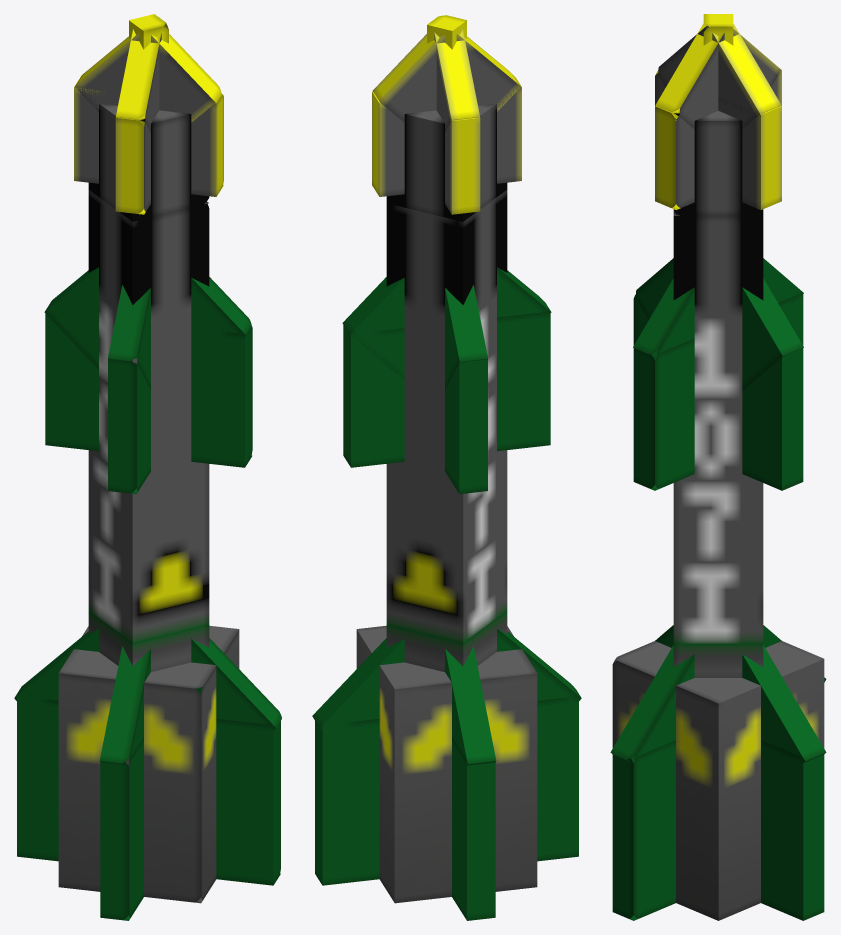
The model's file is missile_incendiary.obj.
3 renders of one model, left to right at view 1: azimuth 30°, elevation 25°; view 2: azimuth 150°, elevation 25°; view 3: azimuth 270°, elevation 25°, orthographic.
Parts seen in each view (by area): view 1: MAIN_MISSILE_MODULE, PROPULSOR_MODULE, WING_B_B_1, WING_T_B_2, WING_B_A_1, WING_T_B_1, WARHEAD_1, WARHEAD_4, WING_T_A_2, WARHEAD_6, WING_B_B_2, WING_B_A_2 (+4 smaller); view 2: MAIN_MISSILE_MODULE, PROPULSOR_MODULE, WING_B_A_1, WING_T_A_2, WING_B_B_1, WARHEAD_1, WARHEAD_3, WING_T_A_1, WING_T_B_2, WING_B_A_2, WARHEAD_5, WING_B_B_2 (+4 smaller); view 3: MAIN_MISSILE_MODULE, PROPULSOR_MODULE, WING_B_A_1, WING_B_B_1, WING_T_B_2, WING_T_A_2, WARHEAD_1, WING_T_A_1, WING_B_B_2, WARHEAD_4, WARHEAD_3, WING_B_A_2 (+4 smaller).
Boxes of the visible parts, left/top/right/bottom form: MAIN_MISSILE_MODULE: left=88, top=190, right=209, bottom=671; PROPULSOR_MODULE: left=58, top=625, right=239, bottom=903; WING_B_B_1: left=17, top=696, right=280, bottom=885; WING_T_B_2: left=45, top=314, right=252, bottom=467; WING_B_A_1: left=100, top=737, right=143, bottom=920; WING_T_B_1: left=44, top=267, right=251, bottom=379; WARHEAD_1: left=88, top=103, right=209, bottom=221; WARHEAD_4: left=74, top=33, right=221, bottom=122; WING_T_A_2: left=108, top=356, right=150, bottom=494; WARHEAD_6: left=74, top=75, right=223, bottom=196; WING_B_B_2: left=14, top=628, right=281, bottom=729; WING_B_A_2: left=99, top=646, right=150, bottom=765; MAIN_MISSILE_MODULE: left=386, top=190, right=507, bottom=671; PROPULSOR_MODULE: left=356, top=625, right=537, bottom=903; WING_B_A_1: left=315, top=696, right=578, bottom=885; WING_T_A_2: left=343, top=311, right=550, bottom=467; WING_B_B_1: left=452, top=737, right=495, bottom=920; WARHEAD_1: left=386, top=103, right=507, bottom=221; WARHEAD_3: left=372, top=33, right=521, bottom=122; WING_T_A_1: left=342, top=267, right=551, bottom=379; WING_T_B_2: left=445, top=359, right=487, bottom=494; WING_B_A_2: left=312, top=628, right=581, bottom=729; WARHEAD_5: left=372, top=78, right=521, bottom=196; WING_B_B_2: left=445, top=646, right=496, bottom=765; MAIN_MISSILE_MODULE: left=673, top=210, right=763, bottom=677; PROPULSOR_MODULE: left=612, top=641, right=824, bottom=920; WING_B_A_1: left=761, top=740, right=824, bottom=920; WING_B_B_1: left=612, top=740, right=675, bottom=920; WING_T_B_2: left=633, top=292, right=803, bottom=490; WING_T_A_2: left=633, top=294, right=803, bottom=490; WARHEAD_1: left=673, top=111, right=763, bottom=215; WING_T_A_1: left=636, top=258, right=803, bottom=390; WING_B_B_2: left=610, top=625, right=826, bottom=763; WARHEAD_4: left=655, top=23, right=781, bottom=129; WARHEAD_3: left=658, top=23, right=781, bottom=129; WING_B_A_2: left=655, top=625, right=826, bottom=762.
Bounding box in the file's own units: 0.9009 × 3.94 × 0.9009.
